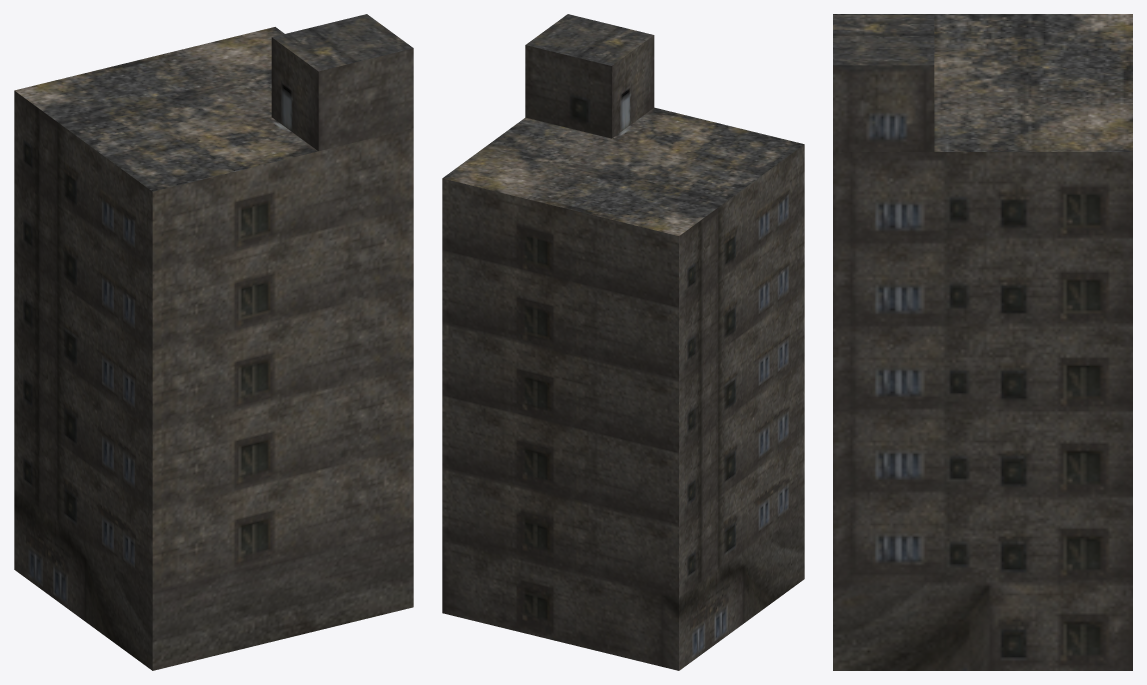
File: Tower03.FBX
3 renders of one model, left to right at view 1: azimuth 30°, elevation 25°; view 2: azimuth 150°, elevation 25°; view 3: azimuth 270°, elevation 25°, orthographic. The views are drawn at different scales.
Parts seen in each view (by area): view 1: Tower03; view 2: Tower03; view 3: Tower03.
Part boxes in pixels (x1,y1,x2,y2): Tower03: [14, 14, 413, 670]; Tower03: [442, 14, 804, 670]; Tower03: [833, 14, 1132, 670].
Size of the model in its own units: 1748 by 3578 by 1606.
